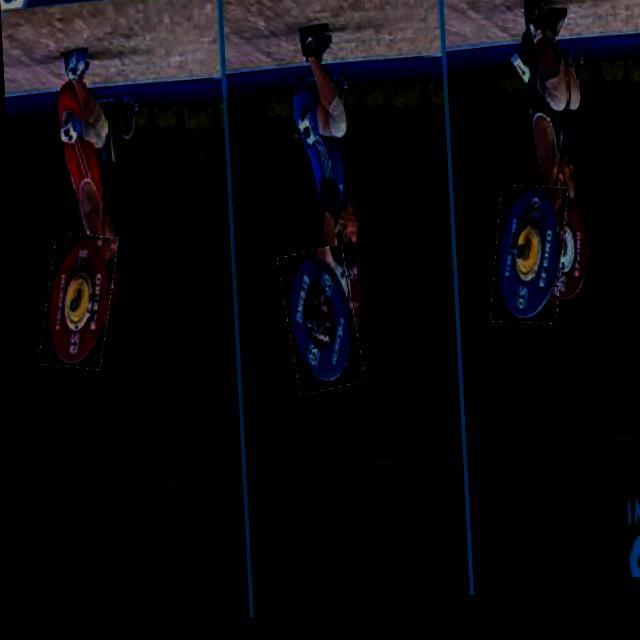barbell: (486, 194, 567, 339), (279, 254, 357, 402), (37, 233, 116, 374)
